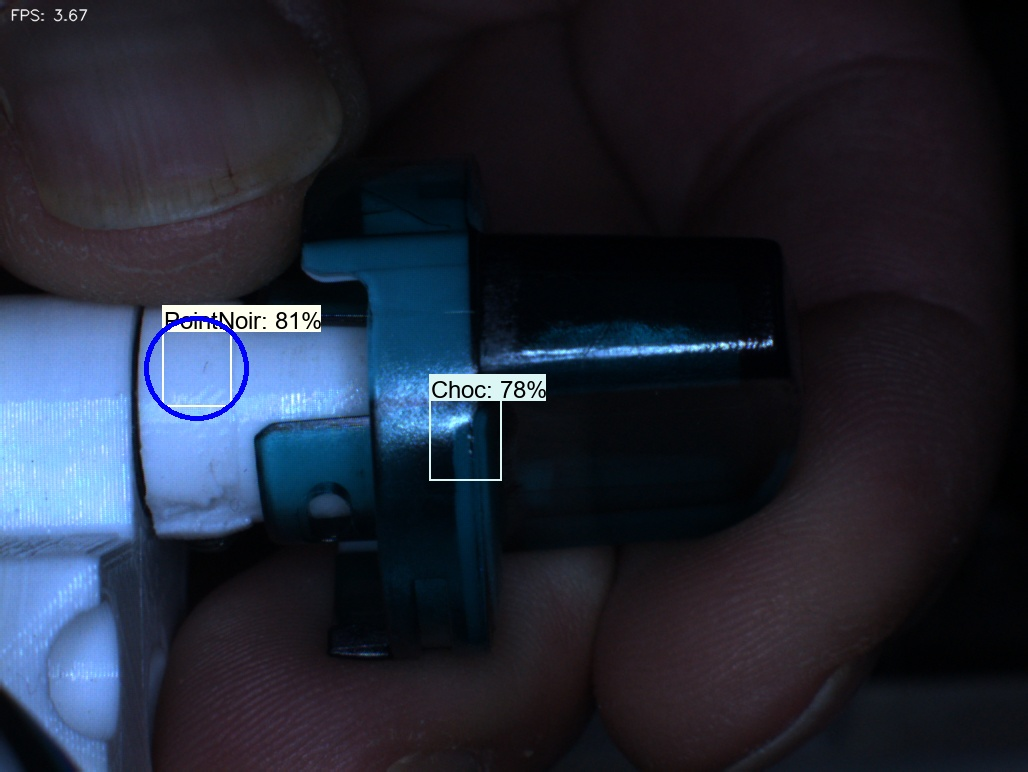DentOk: (347, 166, 405, 233)
